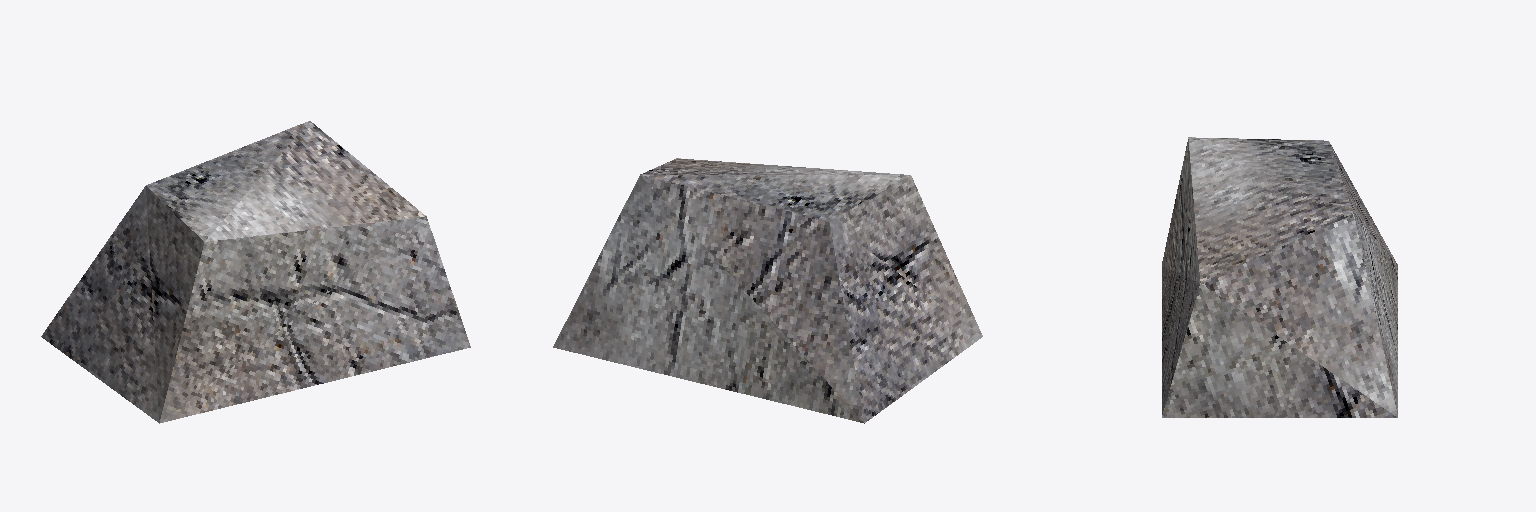
The picture shows the model from 3 angles: view 1: azimuth 30°, elevation 25°; view 2: azimuth 150°, elevation 25°; view 3: azimuth 270°, elevation 25°; orthographic projection.
Visible parts, largest first — view 1: Mesh1 Model; view 2: Mesh1 Model; view 3: Mesh1 Model.
Part boxes in pixels (x1,y1,x2,y2): Mesh1 Model: (41,121,470,423); Mesh1 Model: (553,158,982,423); Mesh1 Model: (1162,137,1397,417).
Bounding box in the file's own units: 1893 × 1000 × 1246.
1 materials, 1 textured.